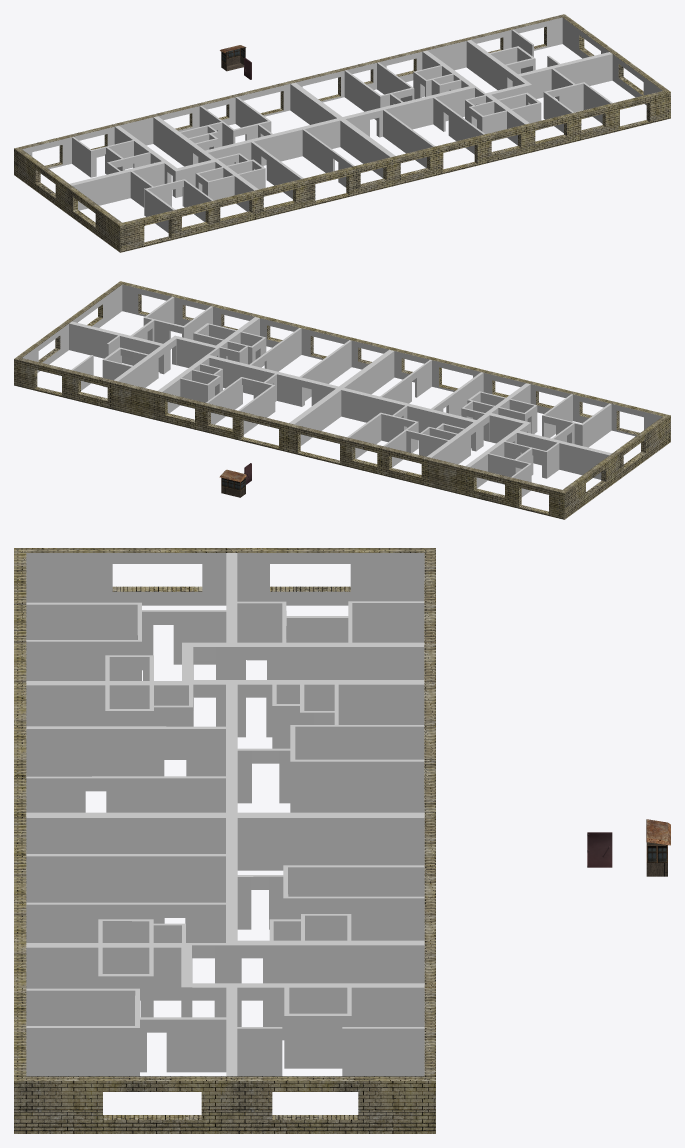
The model's file is hruschevka.glb.
3 renders of one model, top to bottom at view 1: azimuth 30°, elevation 25°; view 2: azimuth 150°, elevation 25°; view 3: azimuth 270°, elevation 25°, orthographic. The views are drawn at different scales.
Visible parts, largest first — view 1: Плоскость.001, Плоскость.002; view 2: Плоскость.001, Плоскость.002; view 3: Плоскость.001, Плоскость.002, Куб.
Boxes of the visible parts, left/top/right/bottom form: Плоскость.001: left=14, top=14, right=670, bottom=252; Плоскость.002: left=220, top=45, right=246, bottom=71; Плоскость.001: left=14, top=281, right=670, bottom=519; Плоскость.002: left=219, top=469, right=246, bottom=497; Плоскость.001: left=14, top=548, right=435, bottom=1133; Плоскость.002: left=646, top=819, right=670, bottom=876; Куб: left=587, top=832, right=612, bottom=867.
Bounding box in the file's own units: 99.8 × 4.61 × 51.98.
6 materials, 5 textured.
